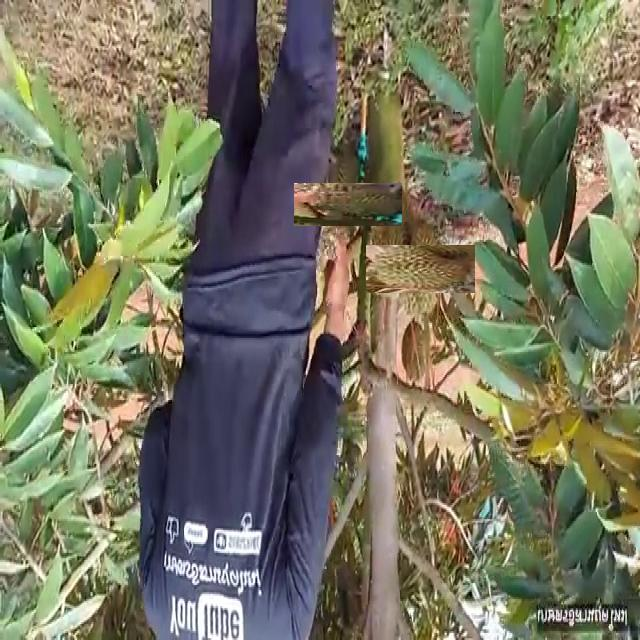durian: (363, 179, 417, 302), (381, 230, 460, 309), (310, 167, 386, 243), (401, 318, 432, 388)
